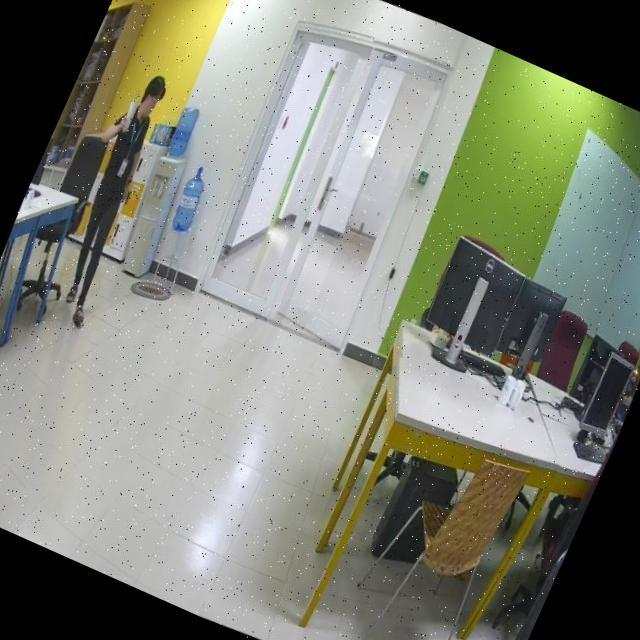person: (30, 68, 189, 334)
